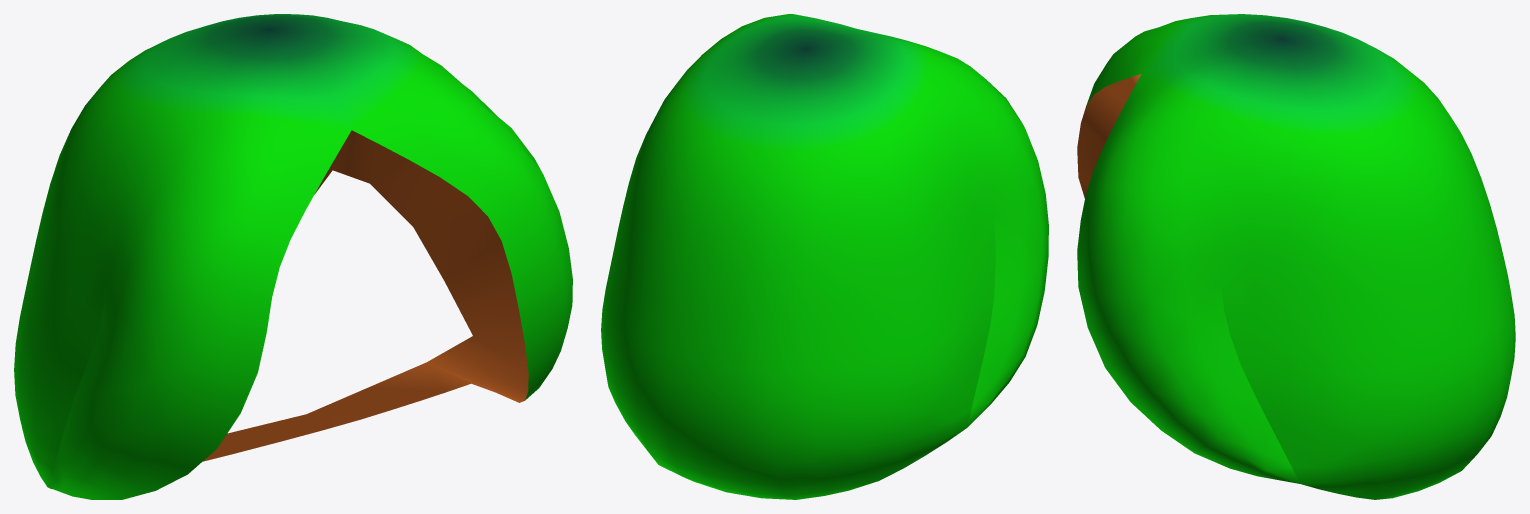
The model's file is Hair1_58.glb.
3 renders of one model, left to right at view 1: azimuth 30°, elevation 25°; view 2: azimuth 150°, elevation 25°; view 3: azimuth 270°, elevation 25°, orthographic. The views are drawn at different scales.
Bounding box in the file's own units: 66.26 × 66.63 × 62.12.
